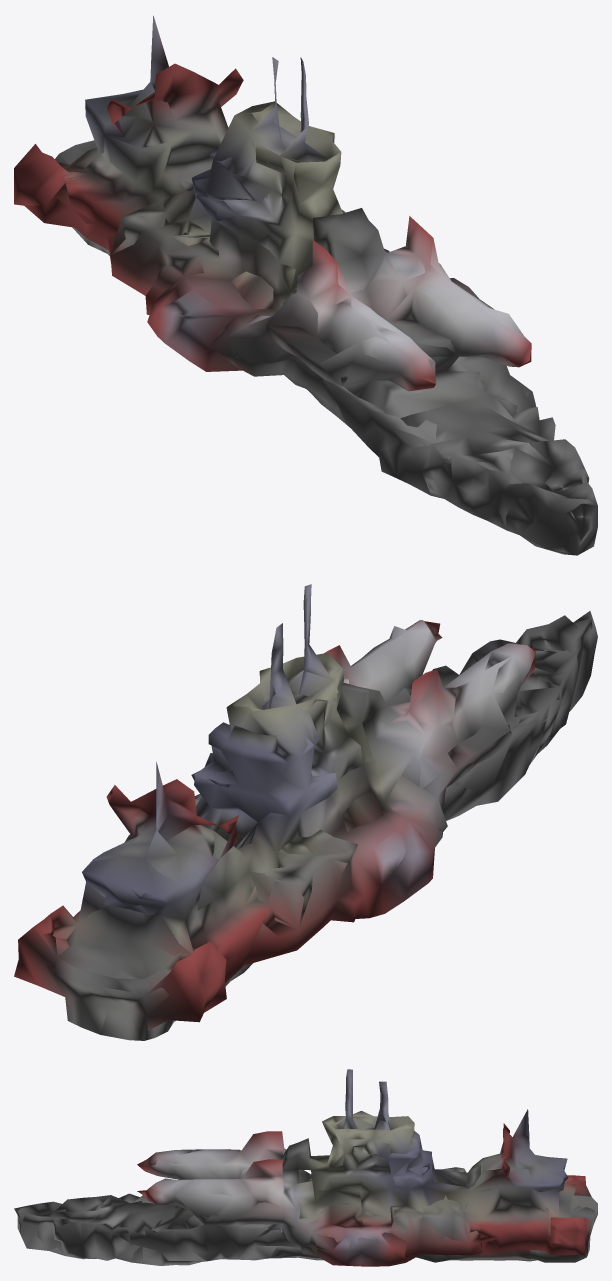
Rendered from dreadnought.glb.
3 views of the same model, one above another, from view 1: azimuth 30°, elevation 25°; view 2: azimuth 150°, elevation 25°; view 3: azimuth 270°, elevation 25° (orthographic). The views are drawn at different scales.
Visible parts, largest first — view 1: dreadnought; view 2: dreadnought; view 3: dreadnought.
Boxes of the visible parts, x1,y1,x2,y2 form: dreadnought: (14, 15, 597, 555); dreadnought: (14, 584, 597, 1040); dreadnought: (14, 1069, 597, 1266).
Size of the model in its own units: 3.09 by 3.81 by 11.04.
